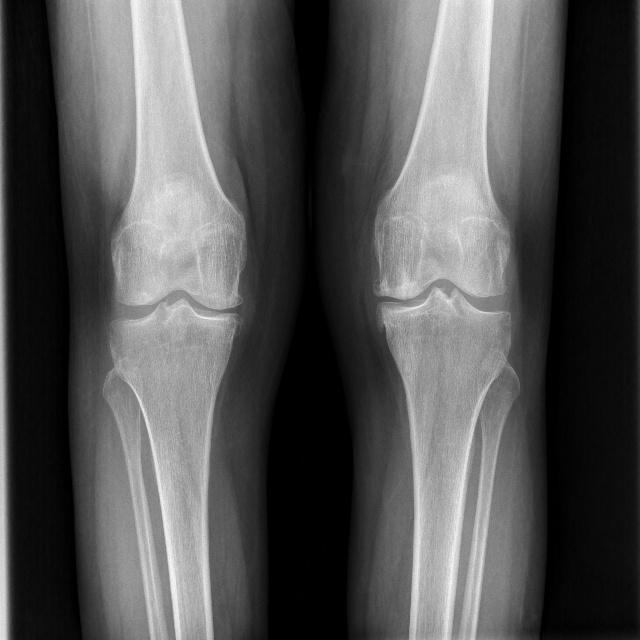Knee: (105, 219, 243, 380), (368, 221, 515, 372)
